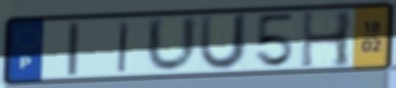5: (252, 12, 298, 69)
H: (298, 9, 355, 70)
I: (65, 20, 82, 78), (115, 20, 133, 74)
U: (144, 14, 200, 75), (196, 12, 251, 73)
